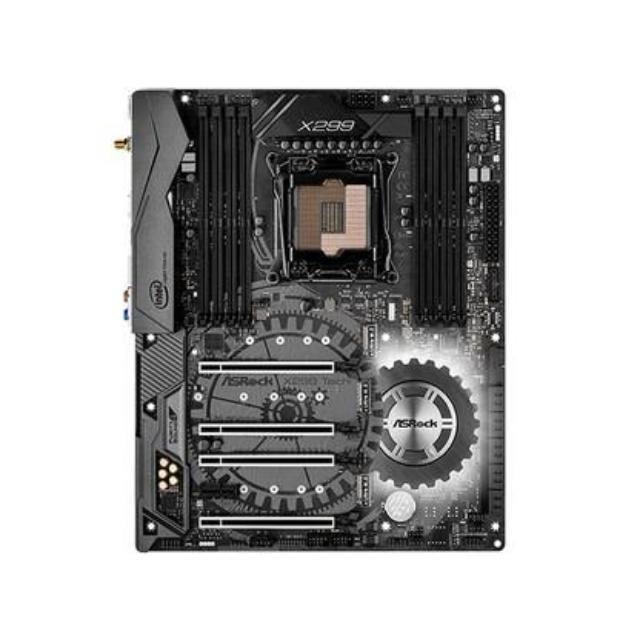Mainboard: (126, 80, 511, 562)
